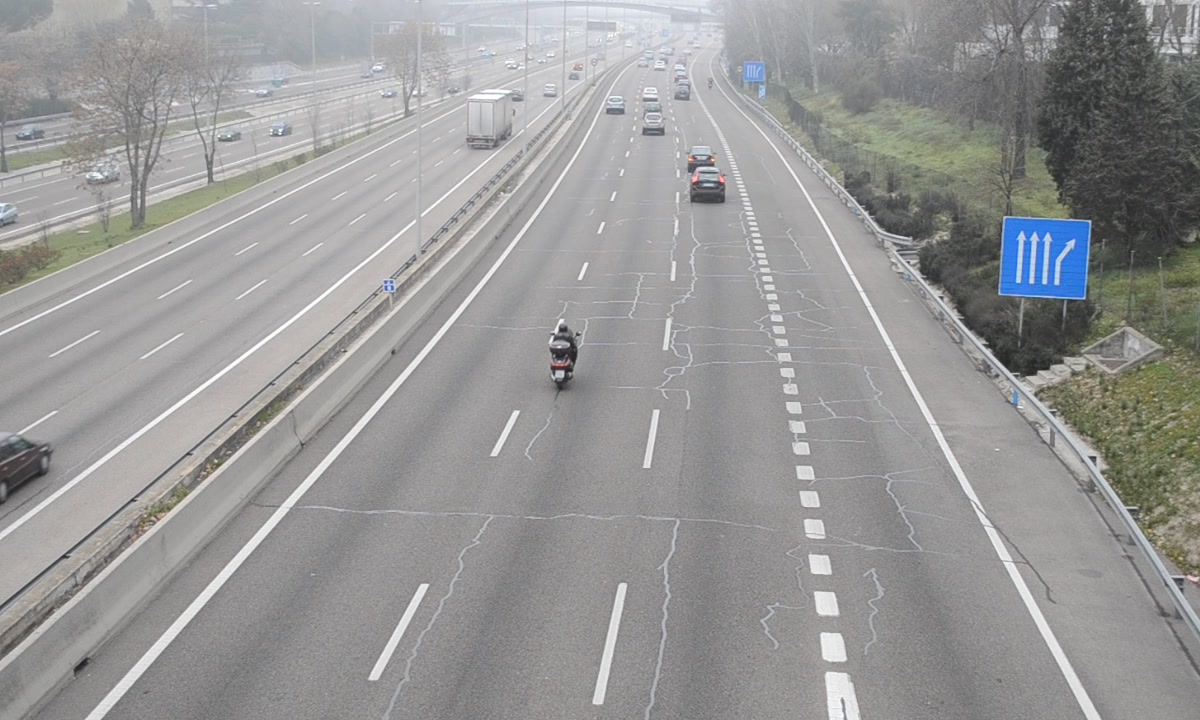car: (690, 168, 726, 201), (686, 145, 716, 170)
motorcycle: (546, 323, 580, 395)
